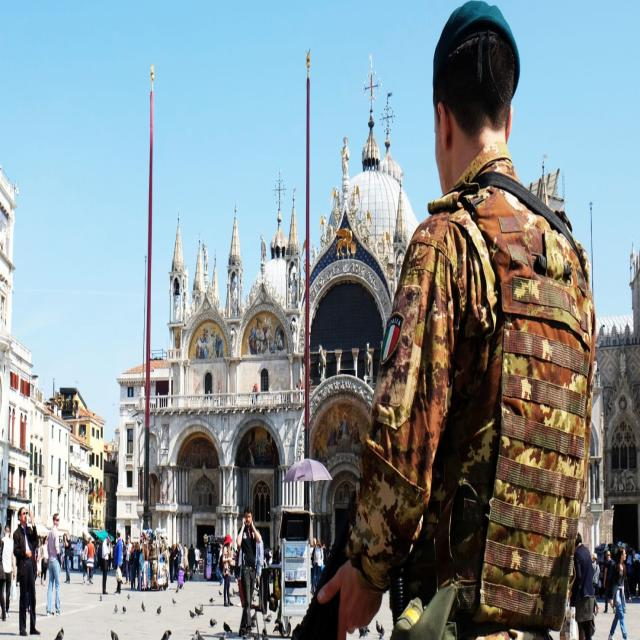body: (317, 0, 594, 640), (12, 501, 42, 637), (236, 503, 262, 639), (567, 530, 595, 640), (607, 544, 631, 640), (46, 512, 62, 619), (0, 522, 17, 617), (218, 532, 234, 608), (625, 542, 640, 605), (603, 549, 616, 615), (254, 528, 265, 598), (113, 528, 123, 596), (312, 536, 324, 591), (101, 533, 111, 595), (0, 522, 6, 622), (591, 552, 600, 615), (284, 377, 304, 405), (63, 532, 72, 586), (40, 534, 49, 586), (87, 536, 96, 586), (124, 532, 132, 586), (79, 538, 88, 584), (176, 541, 184, 592), (216, 542, 225, 586), (230, 545, 241, 579), (264, 544, 280, 566), (170, 543, 178, 584), (173, 541, 181, 581), (130, 540, 136, 591), (310, 534, 316, 584), (187, 544, 195, 581), (182, 546, 189, 586), (36, 538, 42, 578), (193, 546, 200, 576), (252, 381, 260, 407), (135, 542, 140, 582), (96, 539, 102, 570), (121, 537, 125, 578), (109, 541, 115, 565), (168, 544, 172, 570), (184, 543, 188, 552)
